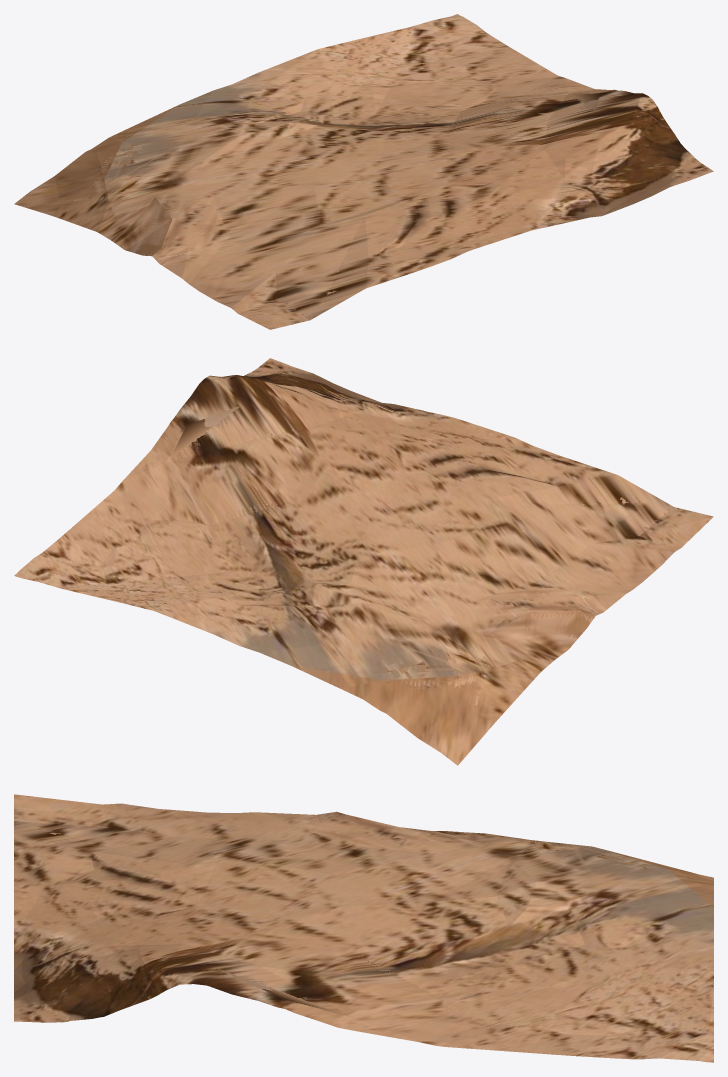
The picture shows the model from 3 angles, top to bottom: view 1: azimuth 30°, elevation 25°; view 2: azimuth 150°, elevation 25°; view 3: azimuth 270°, elevation 25°; orthographic projection. The views are drawn at different scales.
Size of the model in its own units: 1.04 by 0.3142 by 1.04.
Materials: 3 (3 with a texture image).
